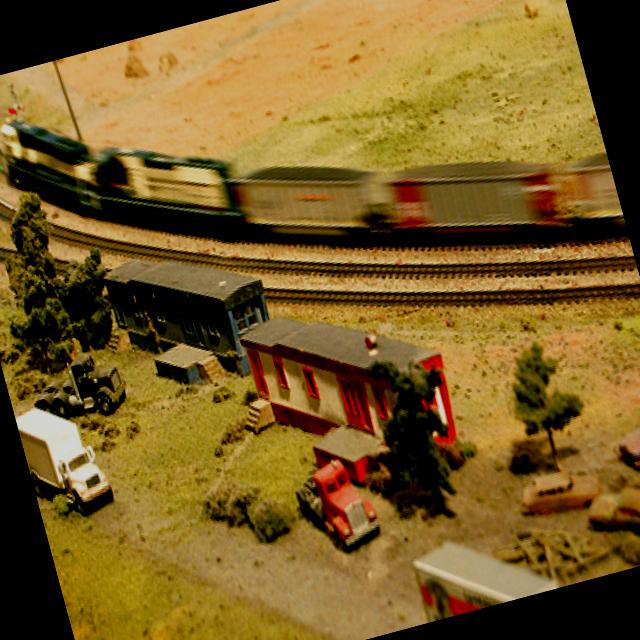Vehicle: (13, 392, 116, 524), (287, 450, 384, 562), (518, 464, 600, 523), (583, 472, 640, 554), (604, 398, 640, 479)
